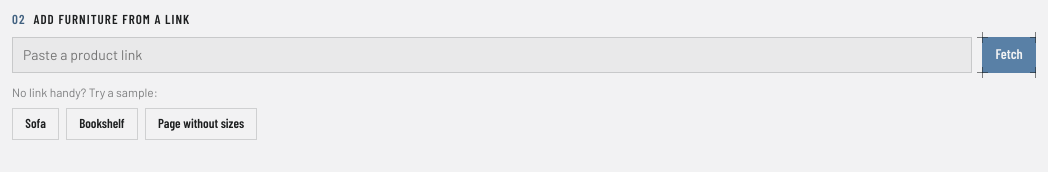
AddFurnitureSection › runs Fetch when Enter is pressed in the link input
Type "https://shop.example/living/alder-3-seat-sofa" into the field labelled "product link".
click(492, 55); type("https://shop.example/living/alder-3-seat-sofa")  # box [12,37,972,73]
Then press Enter
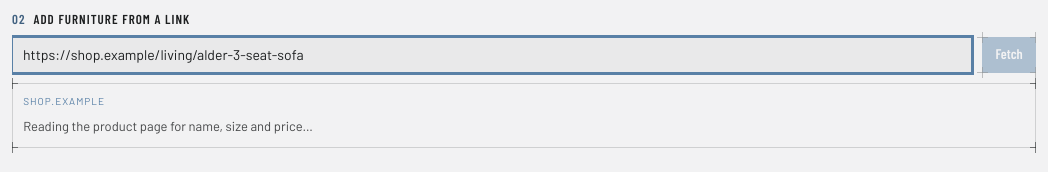
Expected: the text "Reading the product page for name, size and price…" is shown, [23,118,313,134]
Expected: the button "Fetch" is disabled, [982,37,1036,73]
